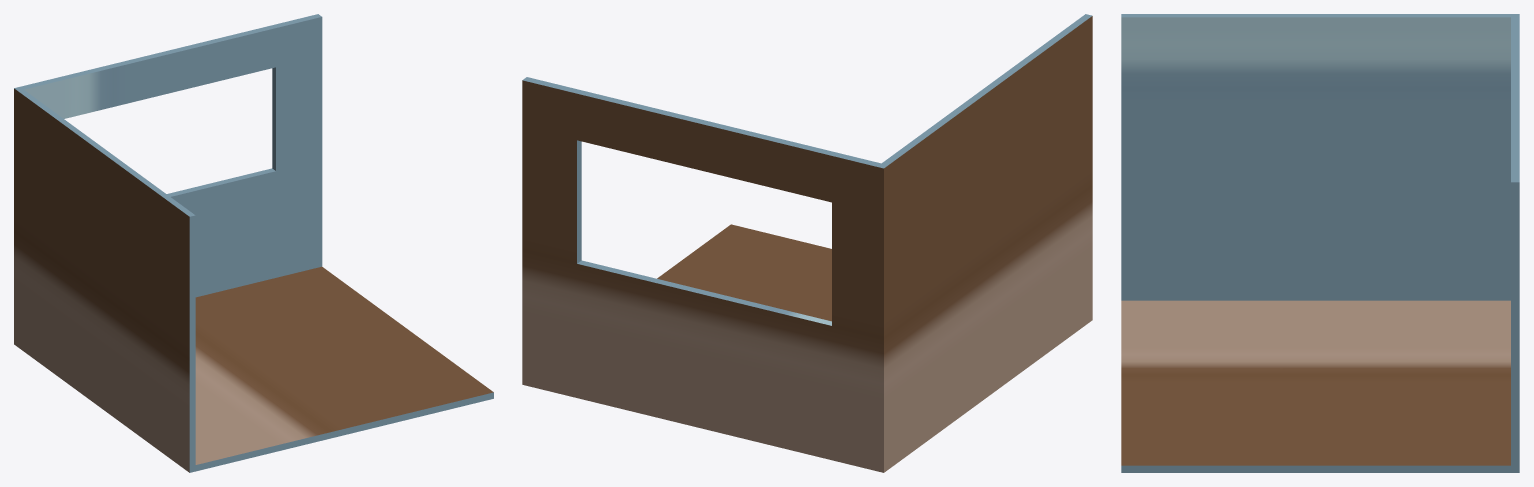
Rendered from Bedroom_Base.fbx.
3 renders of one model, left to right at view 1: azimuth 30°, elevation 25°; view 2: azimuth 150°, elevation 25°; view 3: azimuth 270°, elevation 25°, orthographic. The views are drawn at different scales.
Visible parts, largest first — view 1: Bedroom_Base; view 2: Bedroom_Base; view 3: Bedroom_Base.
Boxes of the visible parts, x1=… form: Bedroom_Base: x1=14, y1=14, x2=493, y2=472; Bedroom_Base: x1=522, y1=14, x2=1092, y2=472; Bedroom_Base: x1=1121, y1=14, x2=1519, y2=472.
Size of the model in its own units: 500 by 402 by 500.
